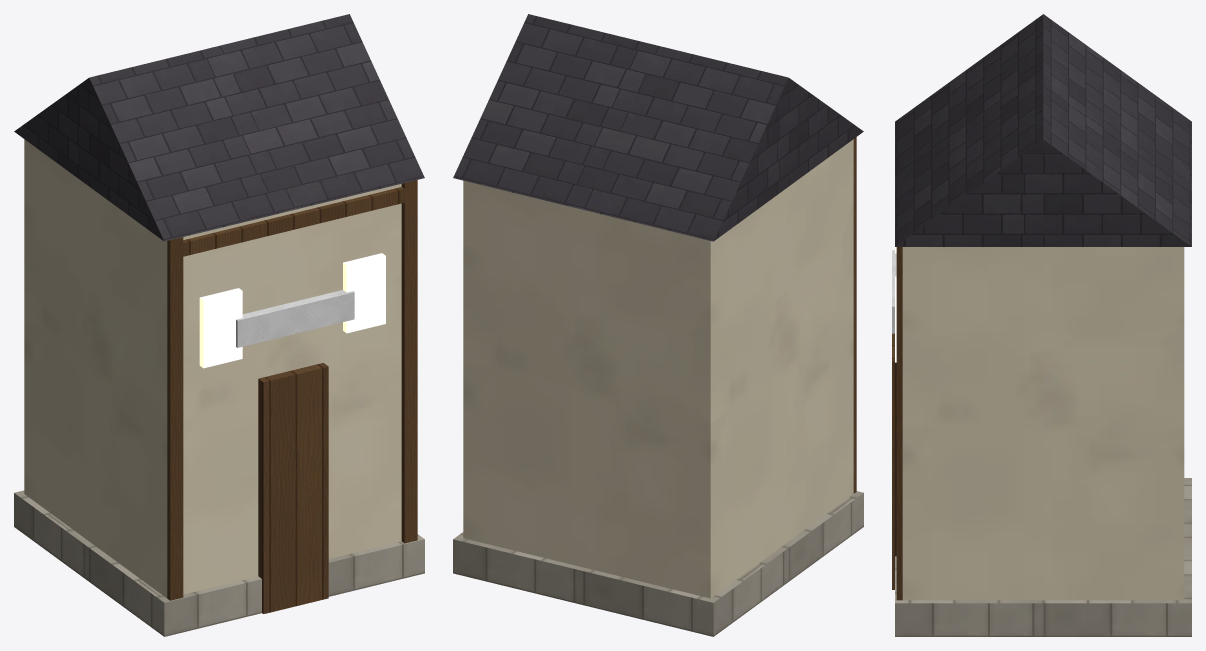
The model's file is category.other.t2.glb.
3 renders of one model, left to right at view 1: azimuth 30°, elevation 25°; view 2: azimuth 150°, elevation 25°; view 3: azimuth 270°, elevation 25°, orthographic.
Parts seen in each view (by area): view 1: building.category.other.t2; view 2: building.category.other.t2; view 3: building.category.other.t2.
Part boxes in pixels (bbox=[...]): building.category.other.t2: bbox=[14, 14, 424, 636]; building.category.other.t2: bbox=[453, 14, 863, 636]; building.category.other.t2: bbox=[892, 14, 1191, 636].
Size of the model in its own units: 2 by 3.7 by 2.02.
Materials: 6 (5 with a texture image).
